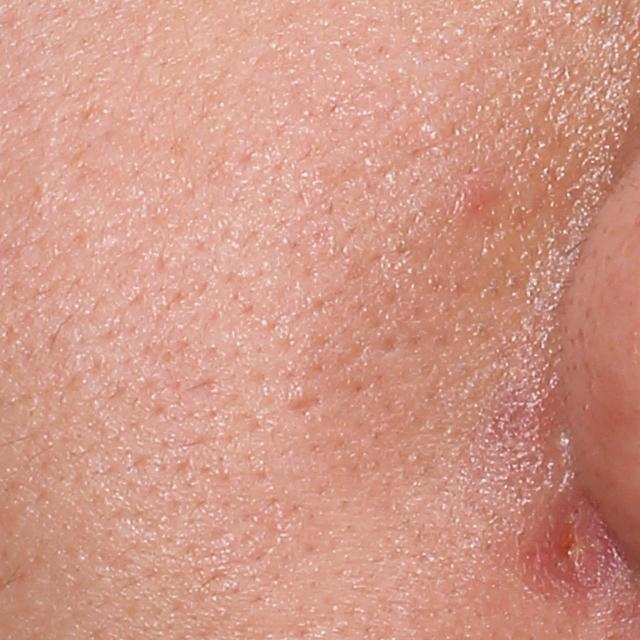atrophic_scar: (283, 388, 327, 421)
papule: (543, 505, 619, 594), (451, 169, 507, 219)
